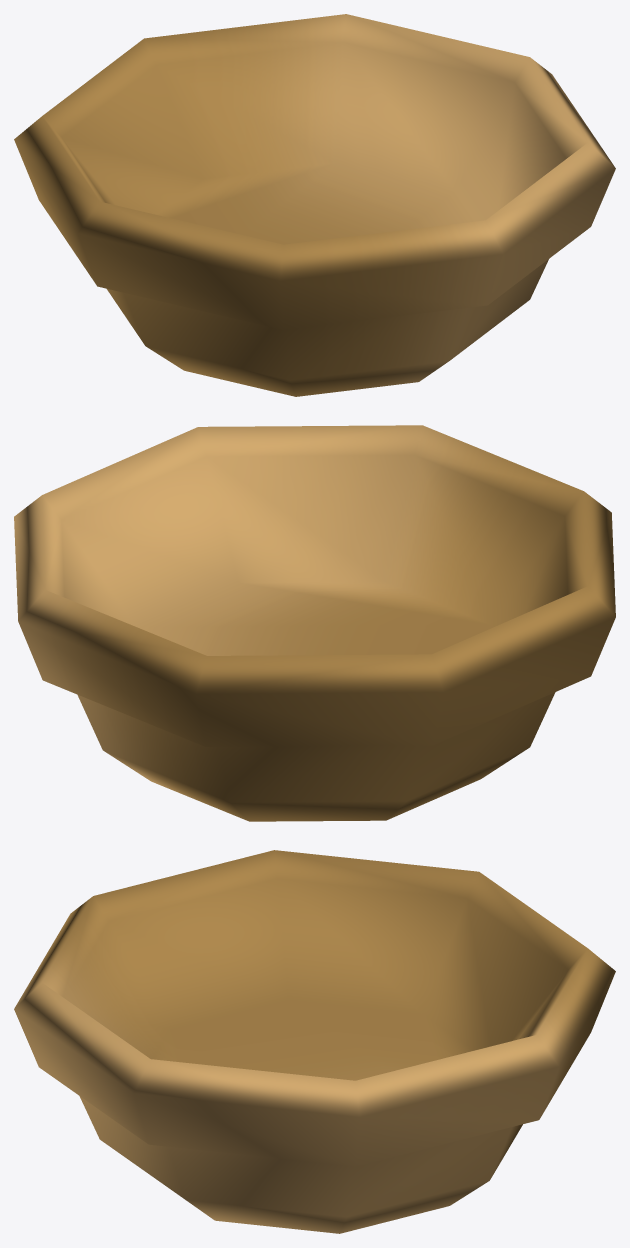
The model's file is Basket_L.fbx.
3 renders of one model, top to bottom at view 1: azimuth 30°, elevation 25°; view 2: azimuth 150°, elevation 25°; view 3: azimuth 270°, elevation 25°, orthographic. The views are drawn at different scales.
Parts seen in each view (by area): view 1: Basket_L.002; view 2: Basket_L.002; view 3: Basket_L.002.
Boxes of the visible parts, x1,y1,x2,y2 form: Basket_L.002: (14,14,615,396); Basket_L.002: (14,425,615,821); Basket_L.002: (14,850,615,1233).
Size of the model in its own units: 1.1 by 0.3998 by 1.1.
Materials: 1 (1 with a texture image).
